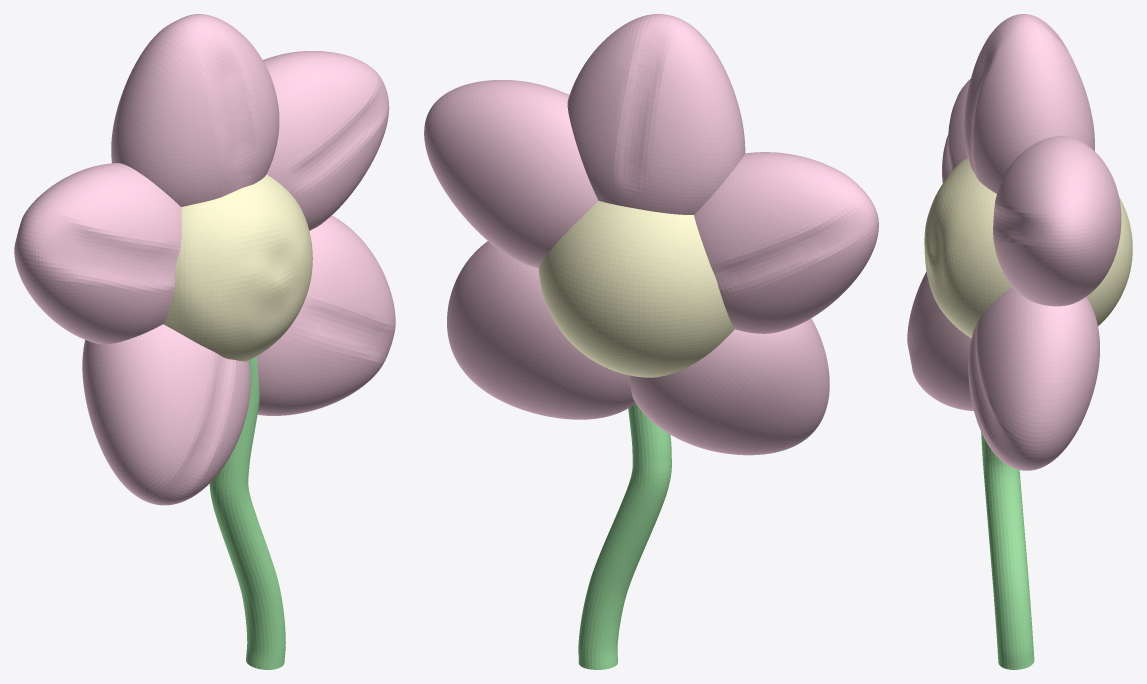
Rendered from flower.glb.
The picture shows the model from 3 angles, left to right: view 1: azimuth 30°, elevation 25°; view 2: azimuth 150°, elevation 25°; view 3: azimuth 270°, elevation 25°; orthographic projection. The views are drawn at different scales.
Visible parts, largest first — view 1: Sphere (×2), Sphere 4, Sphere 3, Sphere 1, Sphere 2, Tube; view 2: Sphere (×2), Sphere 4, Sphere 3, Sphere 2, Sphere 1, Tube; view 3: Sphere (×2), Sphere 2, Sphere 4, Tube, Sphere 1, Sphere 3.
Boxes of the visible parts, x1,y1,x2,y2 form: Sphere (×2): [163, 51, 389, 361]; Sphere 4: [111, 14, 279, 206]; Sphere 3: [14, 163, 181, 344]; Sphere 1: [82, 324, 250, 505]; Sphere 2: [257, 215, 395, 415]; Tube: [209, 356, 285, 669]; Sphere (×2): [424, 80, 734, 377]; Sphere 4: [567, 14, 745, 214]; Sphere 3: [694, 152, 878, 333]; Sphere 2: [447, 241, 635, 419]; Sphere 1: [629, 318, 829, 455]; Tube: [578, 403, 671, 669]; Sphere (×2): [924, 136, 1132, 338]; Sphere 2: [968, 287, 1099, 470]; Sphere 4: [964, 14, 1094, 193]; Tube: [981, 432, 1034, 669]; Sphere 1: [907, 271, 973, 410]; Sphere 3: [942, 78, 970, 183].
Size of the model in its own units: 2.05 by 3.2 by 1.07.
